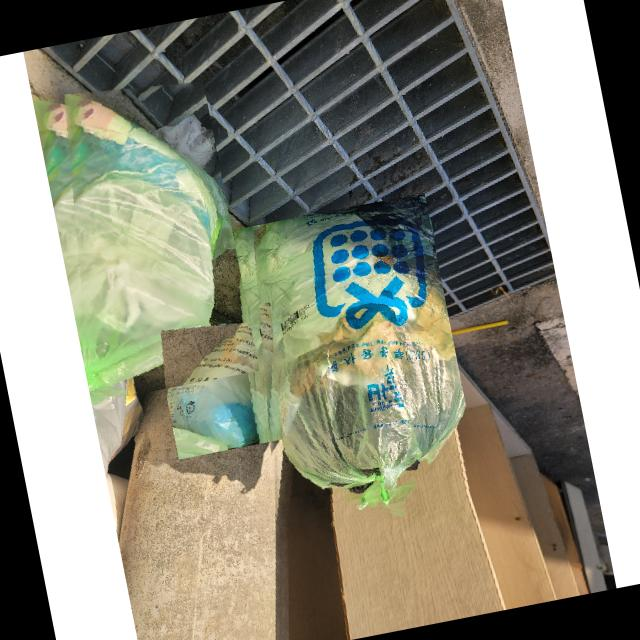general_trashbag: (250, 197, 465, 511), (58, 95, 235, 401), (167, 309, 258, 445)
